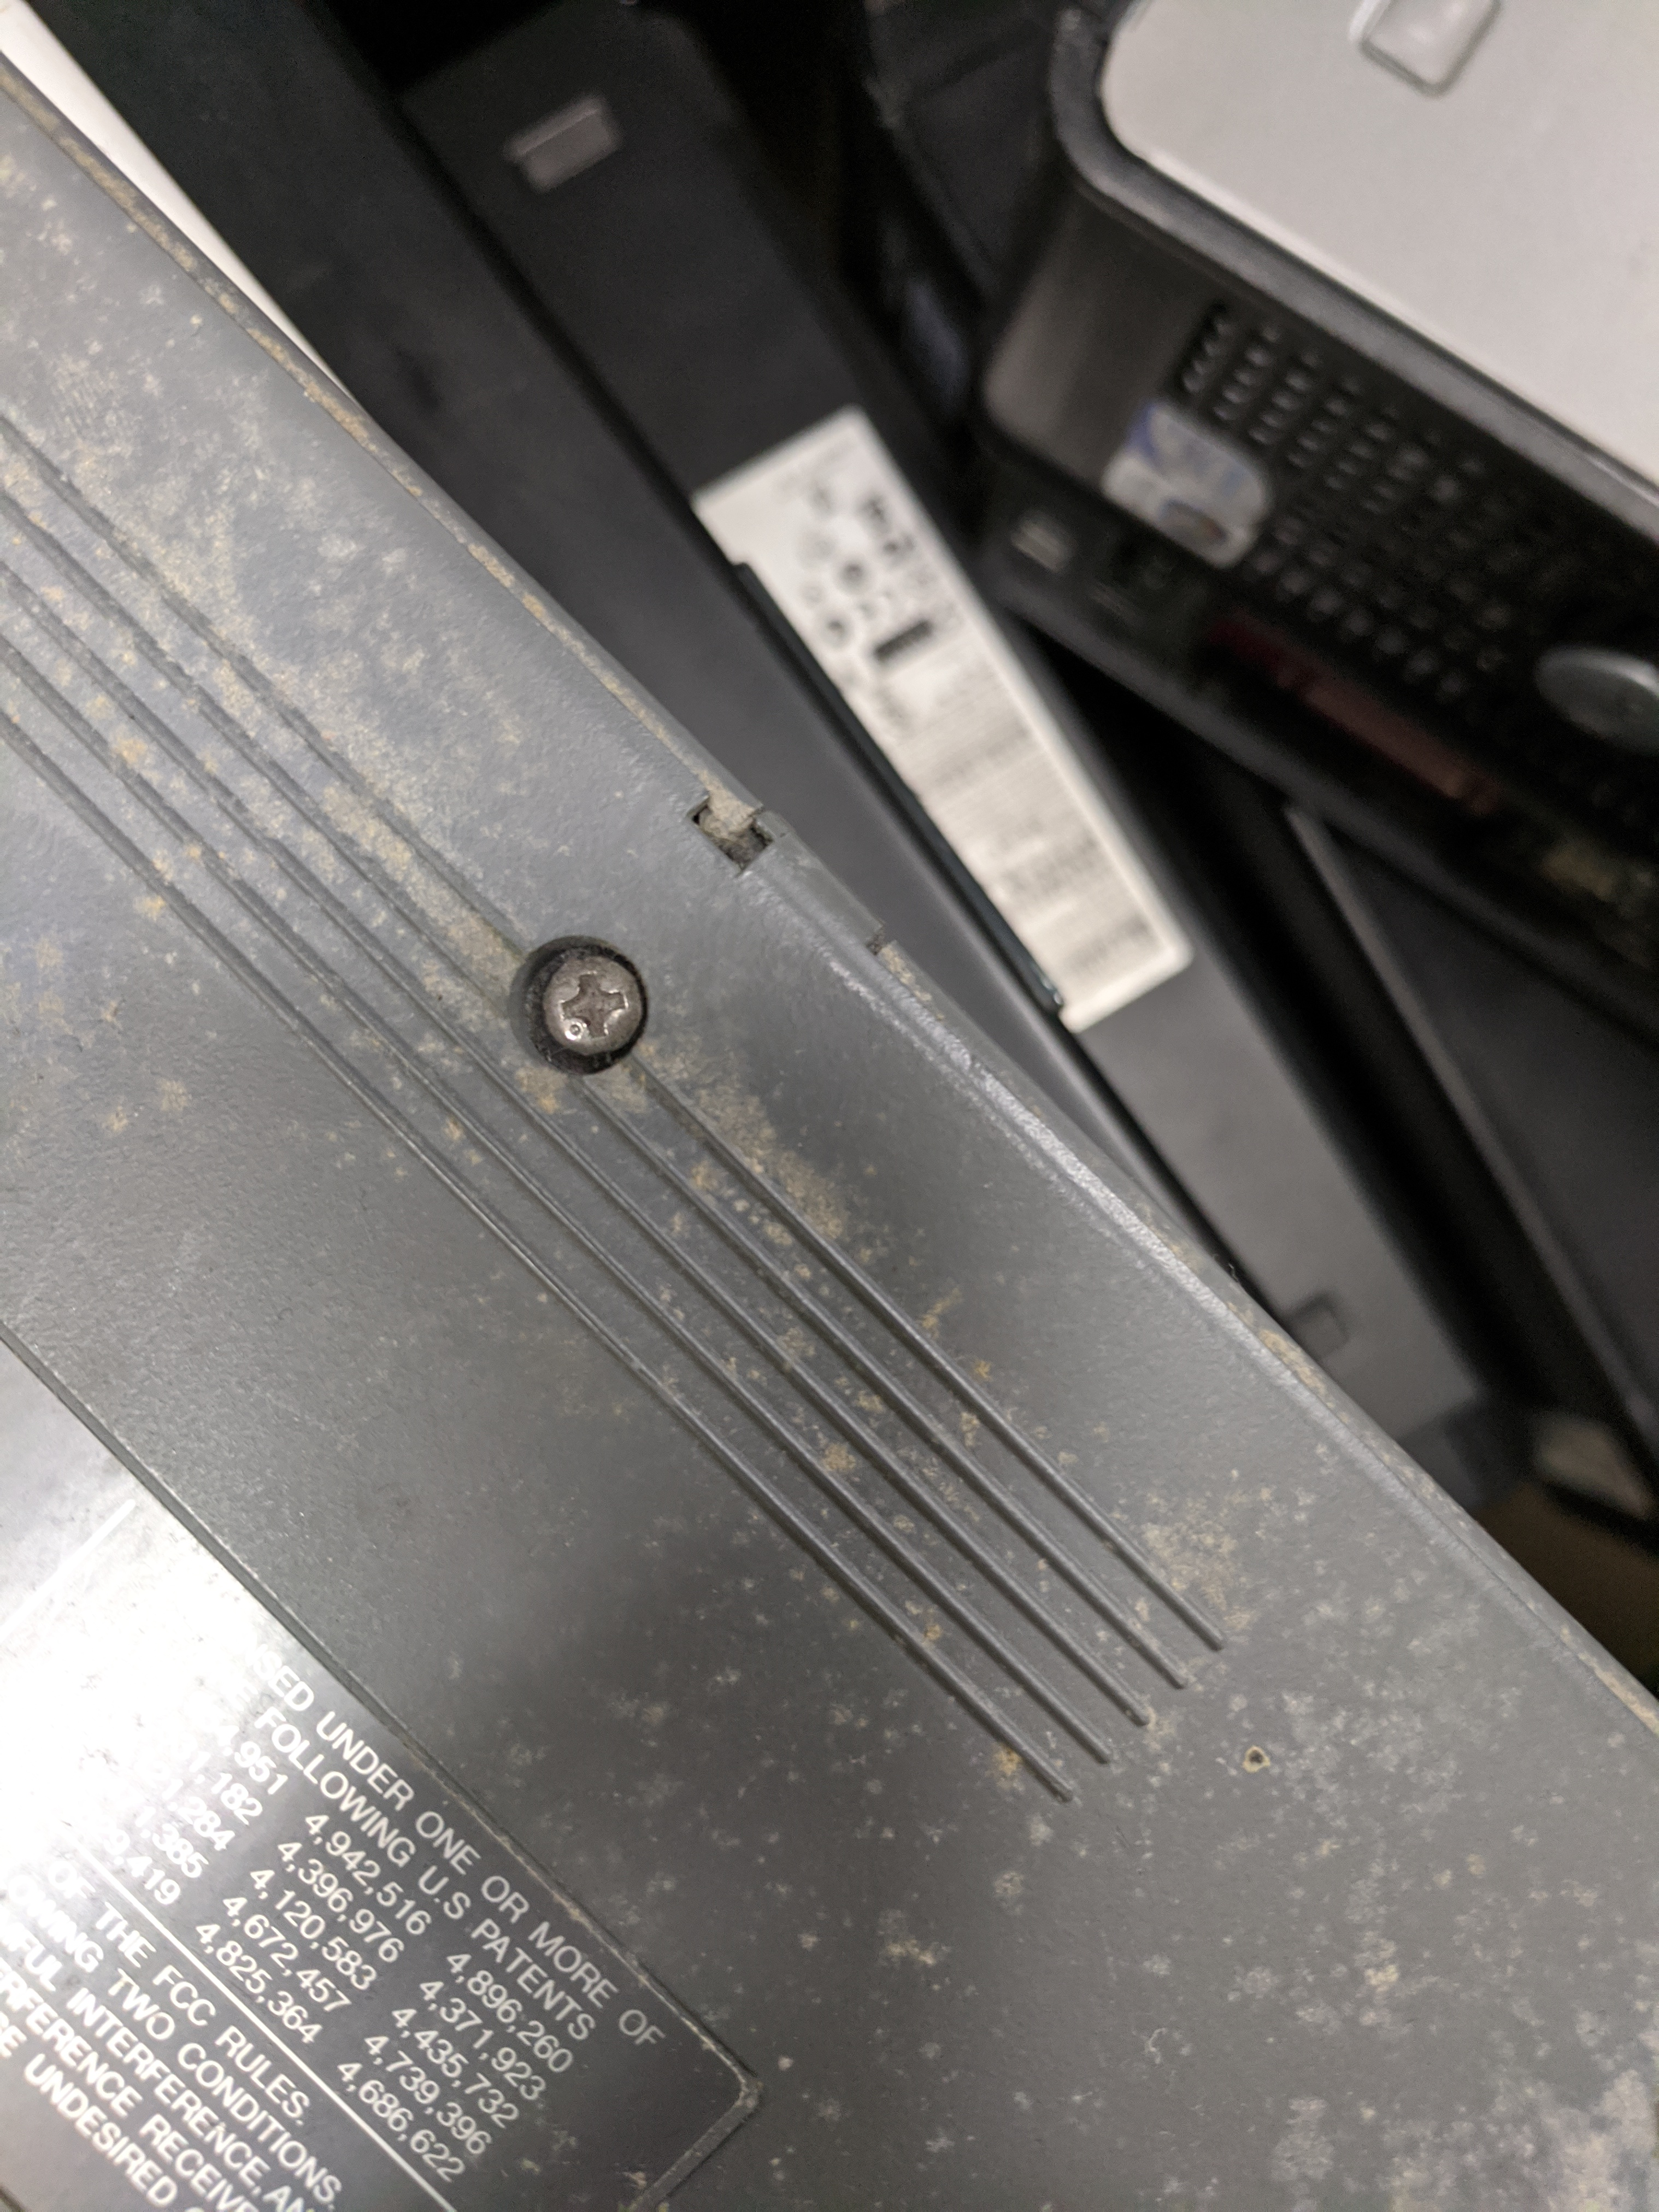cross_recessed_screw: (509, 930, 662, 1080)
